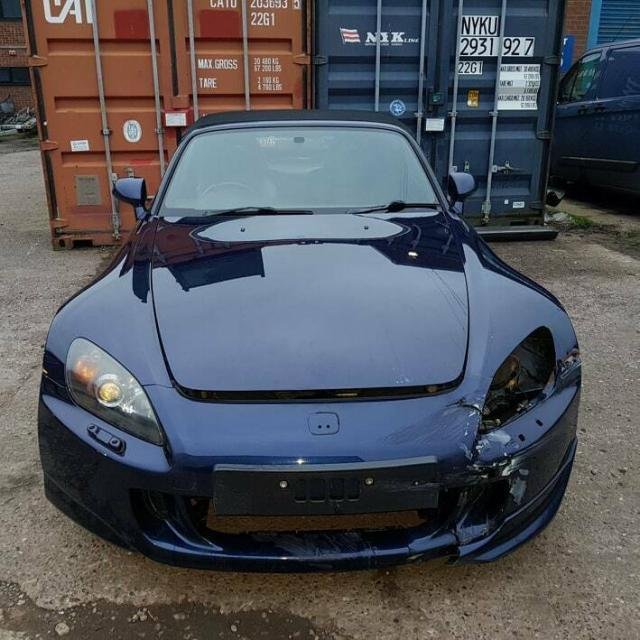scratch: (393, 386, 536, 486)
